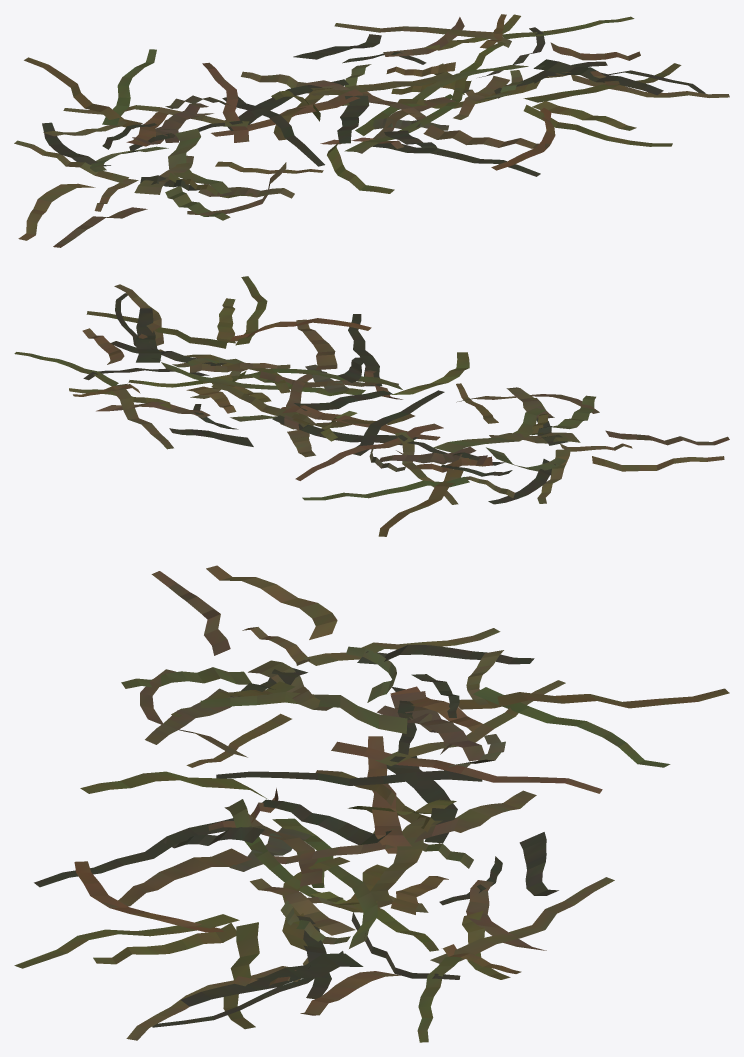
Rendered from wrack.glb.
3 views of the same model, one above another, from view 1: azimuth 30°, elevation 25°; view 2: azimuth 150°, elevation 25°; view 3: azimuth 270°, elevation 25° (orthographic). The views are drawn at different scales.
Parts seen in each view (by area): view 1: wrack_near; view 2: wrack_near; view 3: wrack_near.
Part boxes in pixels (x1,y1,x2,y2): wrack_near: [14, 14, 729, 247]; wrack_near: [14, 276, 729, 536]; wrack_near: [14, 565, 729, 1042].
Size of the model in its own units: 1.74 by 0.012 by 1.1.
